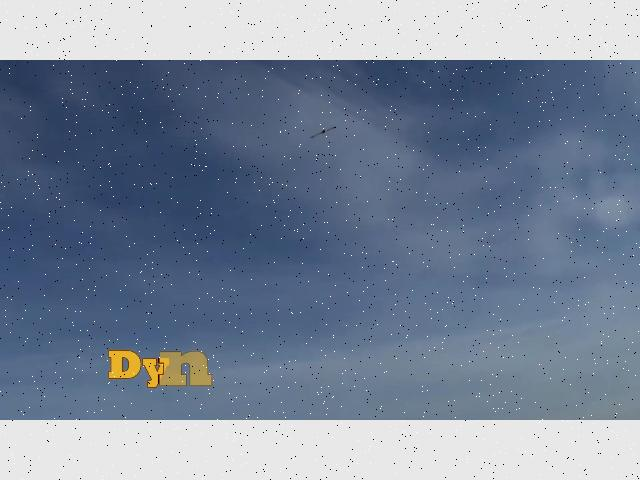Anti-Drone: (310, 128, 336, 139)
